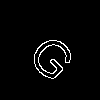G: (24, 24, 86, 85)
